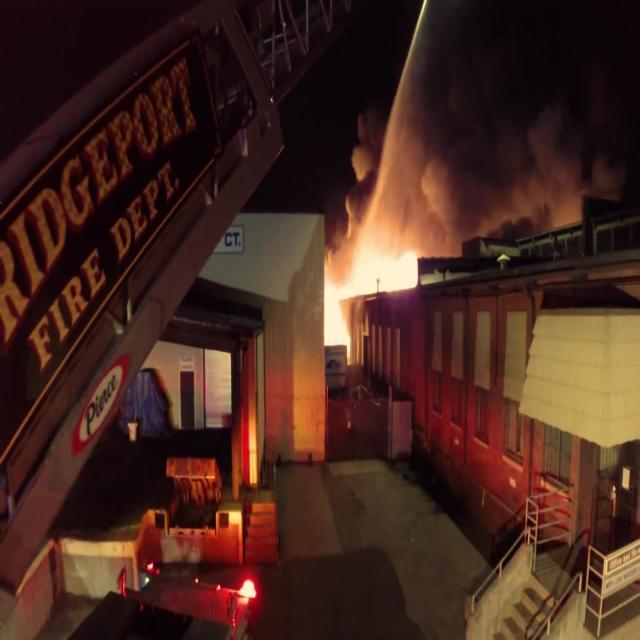Fire: (324, 235, 434, 363)
Smoke: (320, 18, 614, 340)
